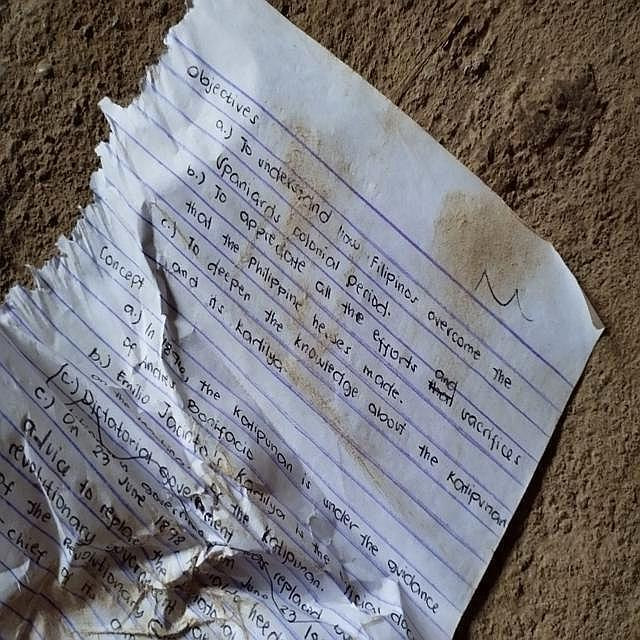Biodegradable: (1, 3, 597, 640)
